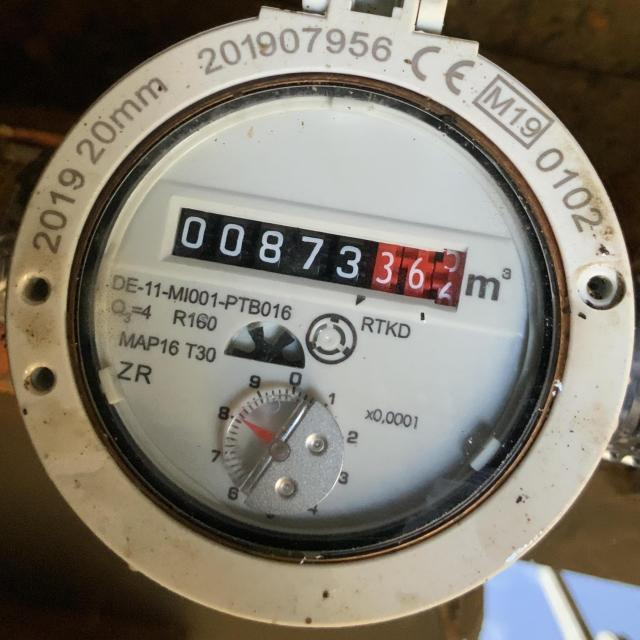gaz_meter: (92, 90, 536, 540)
indication: (157, 200, 468, 322)
